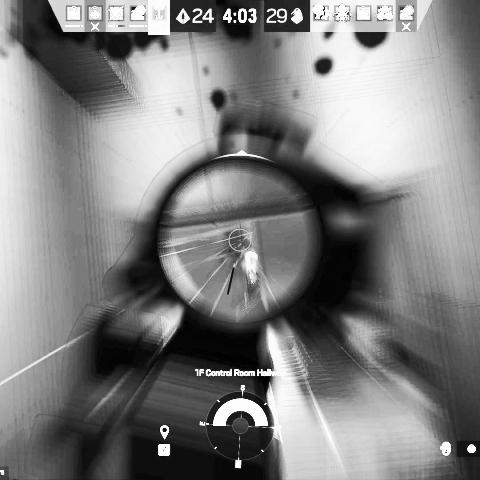Character: (245, 250, 261, 290)
Head: (245, 252, 258, 264)
